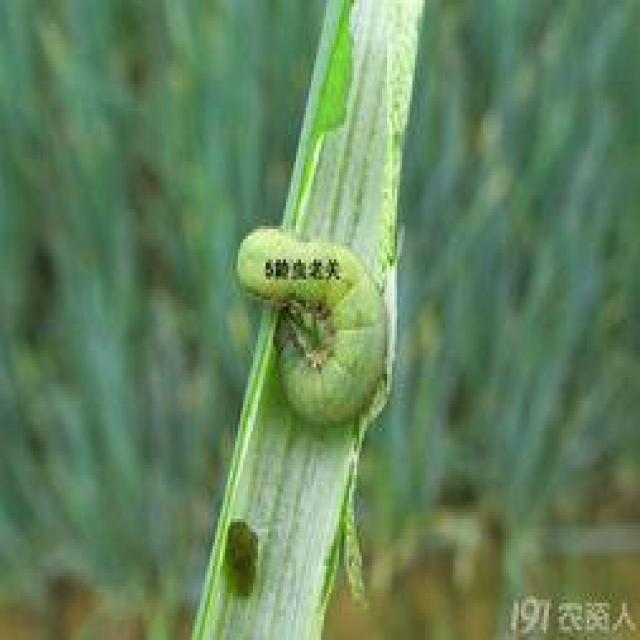BeetArmyWorm-Larva-: (232, 219, 401, 435)
